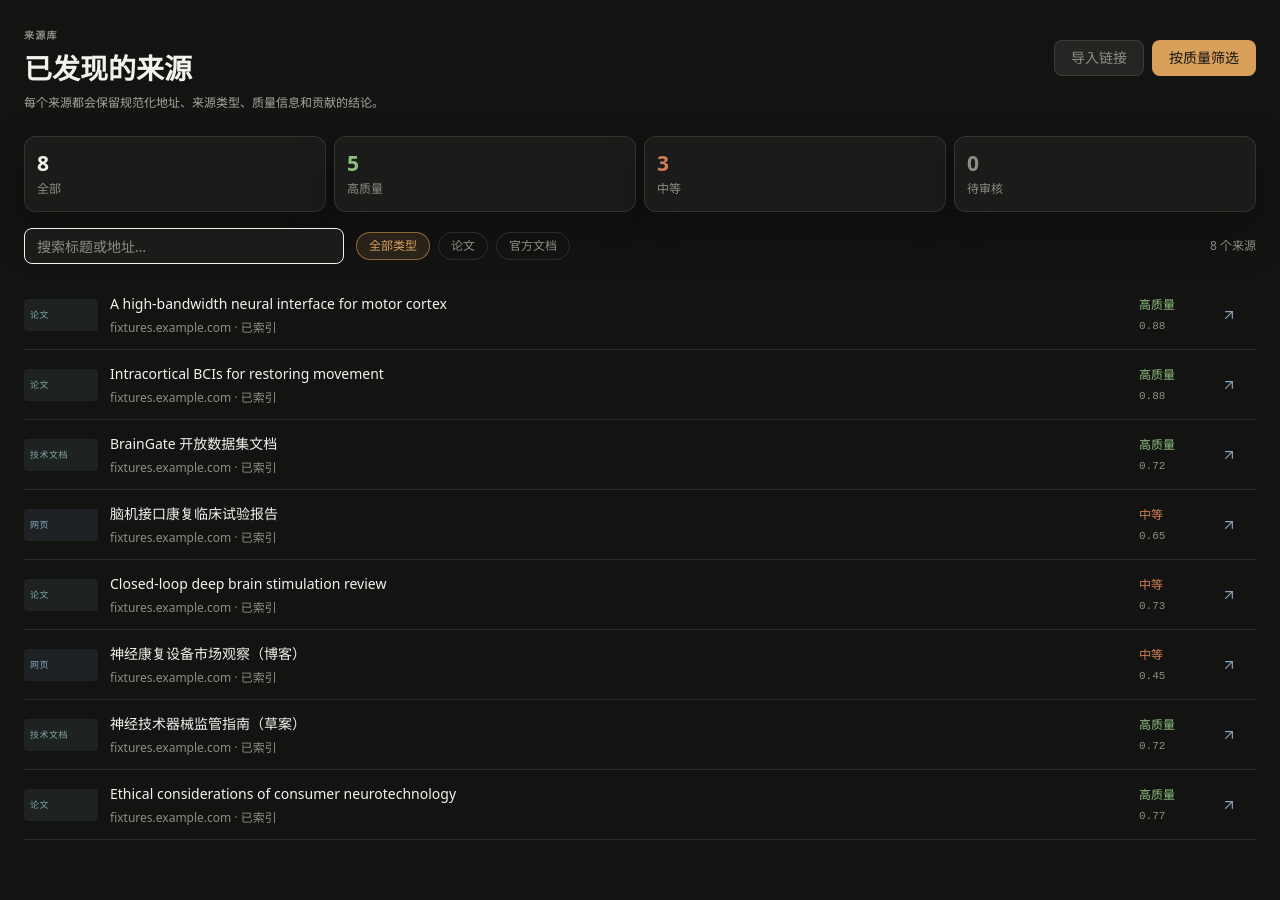
Test: SourcesPage prototype alignment › filters rows through type chips and the quality toggle
Click the button "论文". click: click(463, 246)
box: [438,232,488,260]
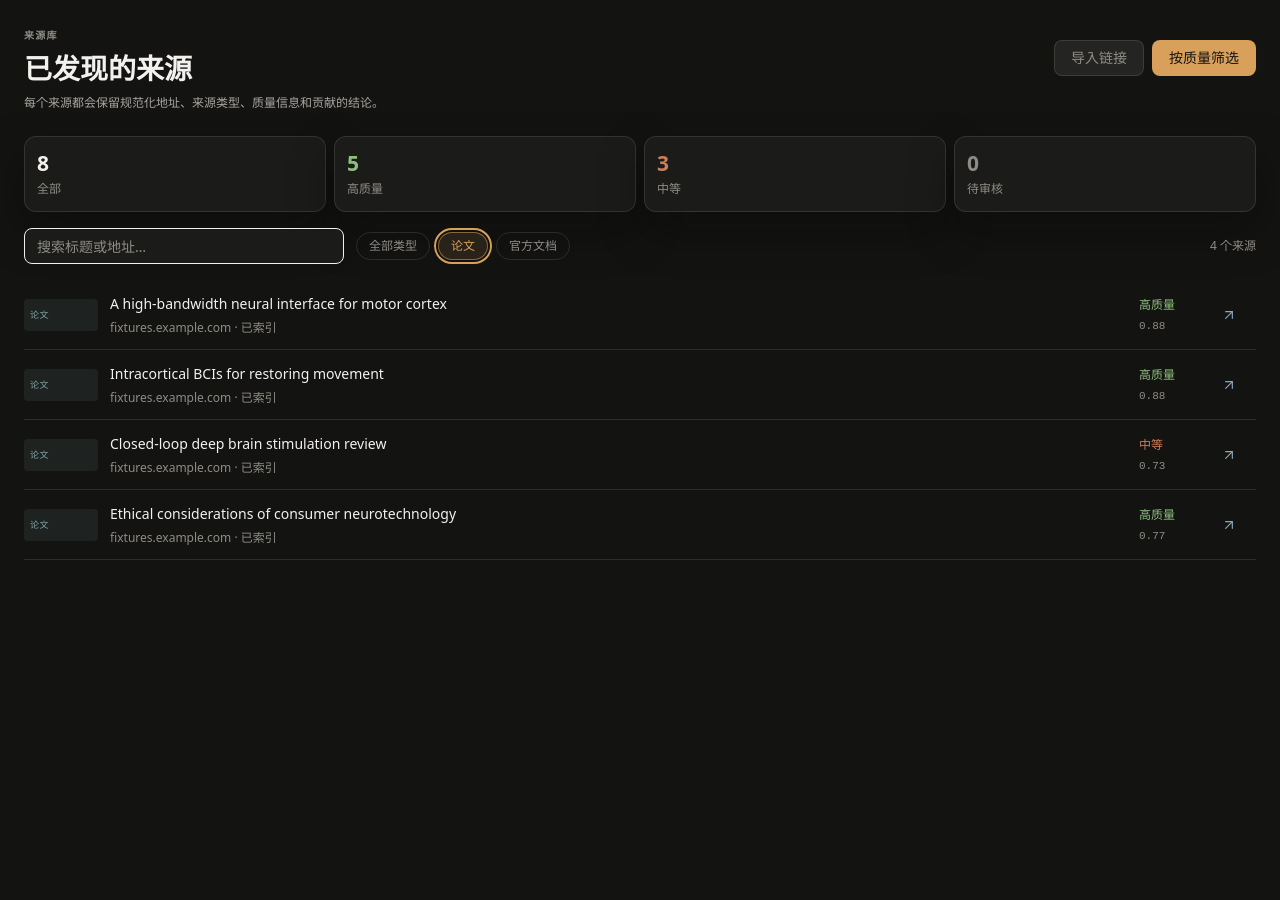
Expected: the number of list items with test id "source-row" is 4, [24,280,1256,350]; [24,350,1256,420]; [24,420,1256,490]; [24,490,1256,560]
Click the button "官方文档". click: click(533, 246)
box: [496,232,570,260]
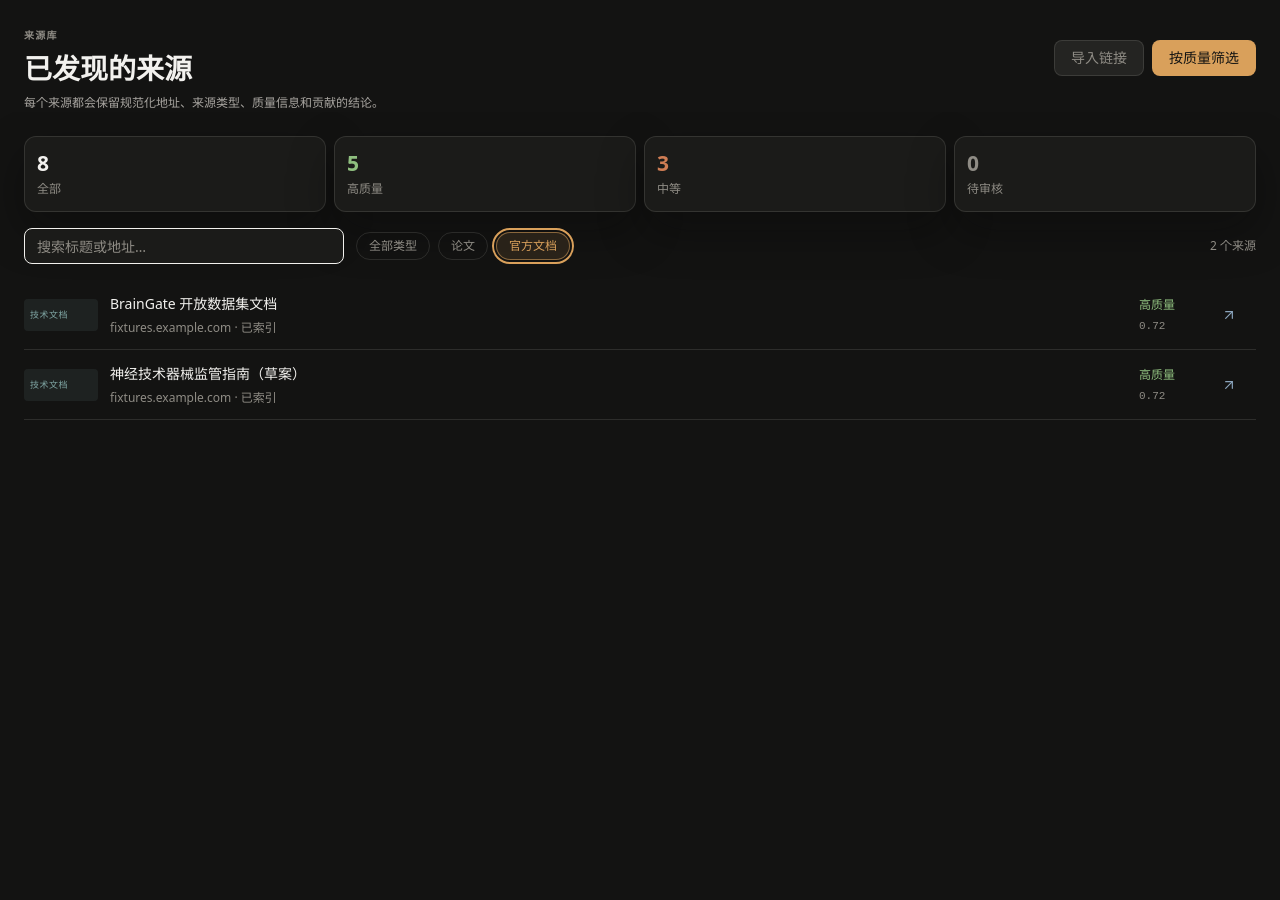
Expected: the number of list items with test id "source-row" is 2, [24,280,1256,350]; [24,350,1256,420]
Click the button "全部类型". click: click(393, 246)
box: [356,232,430,260]
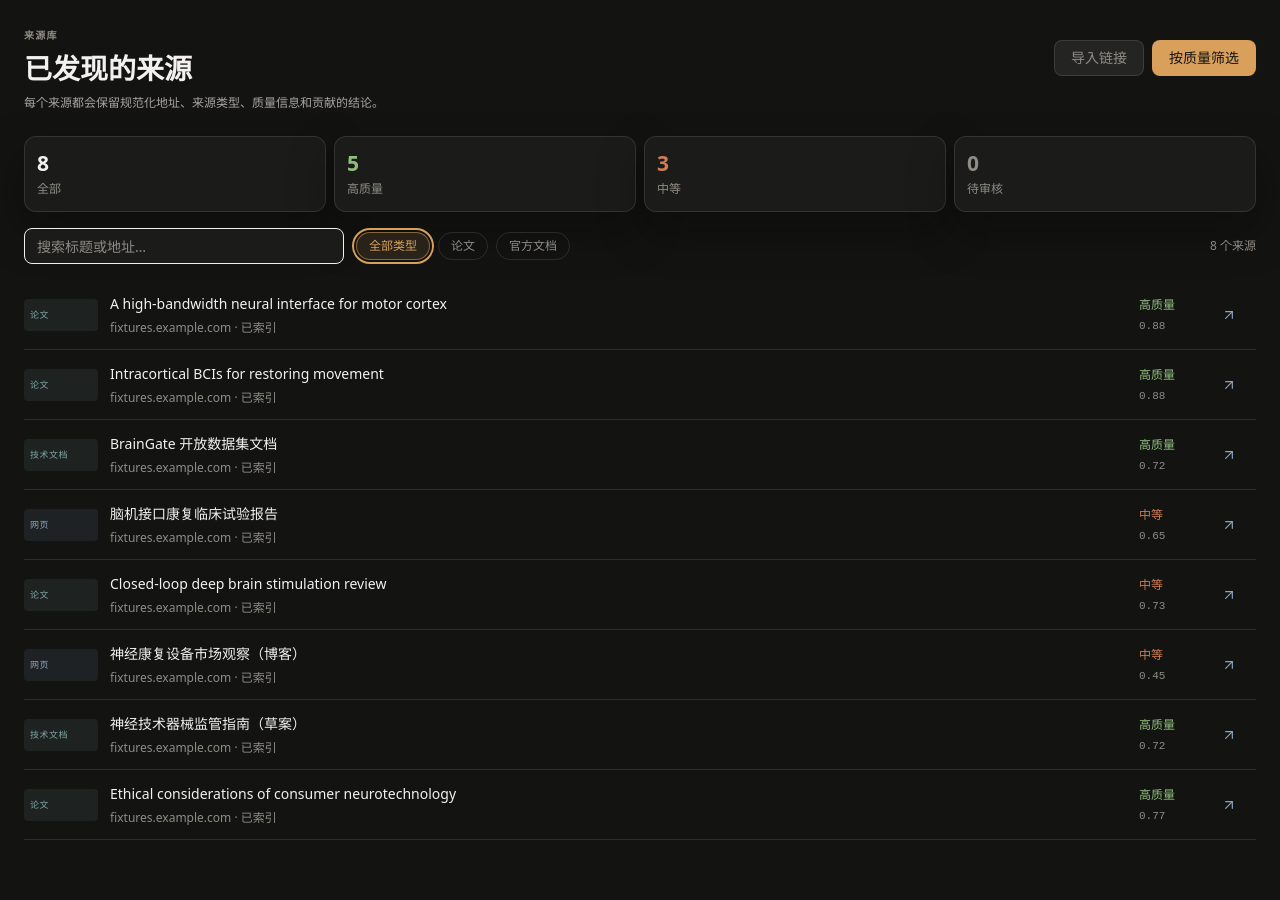
Expected: the number of list items with test id "source-row" is 8
Click the button "按质量筛选". click: click(1204, 58)
box: [1152,40,1256,76]
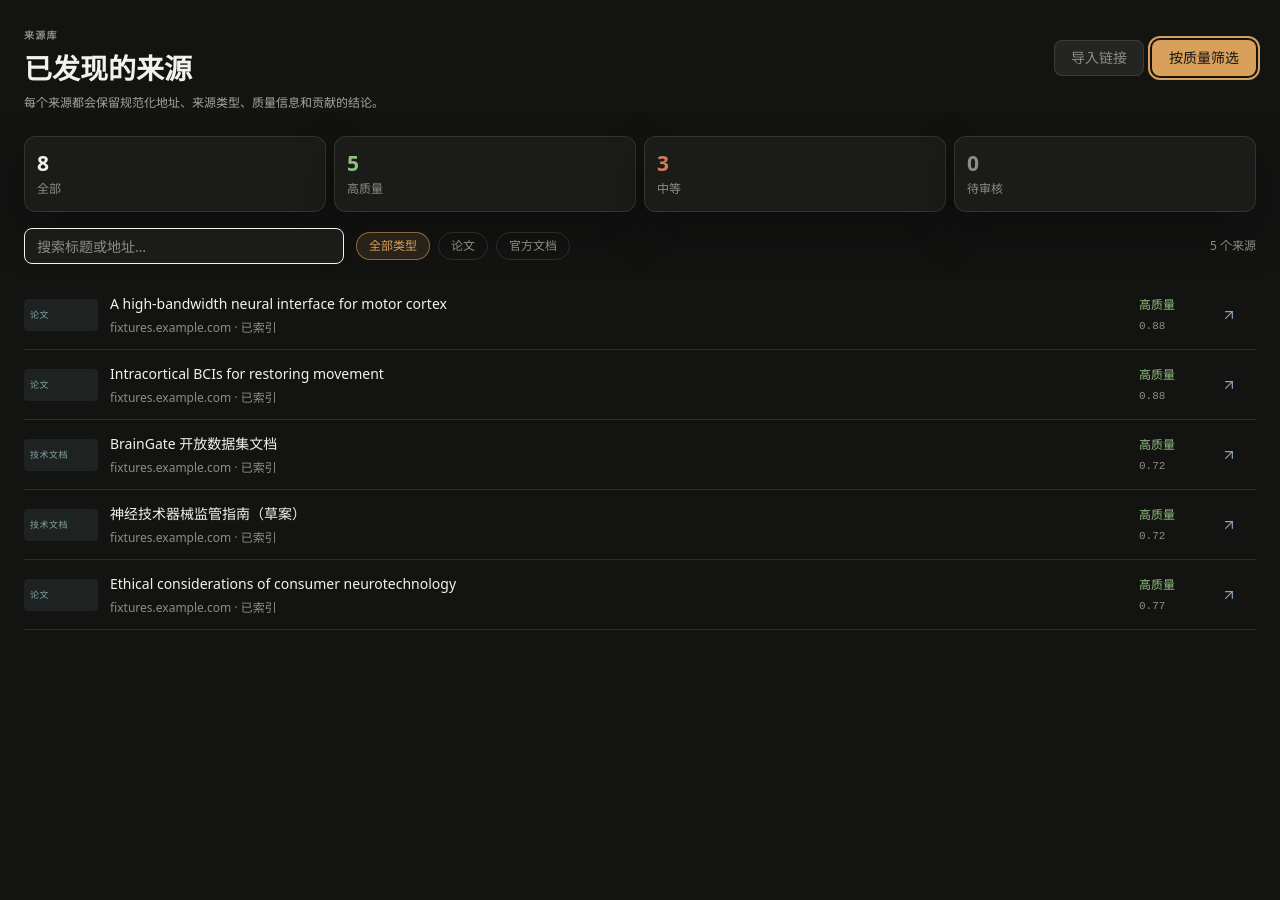
Expected: the number of list items with test id "source-row" is 5, [24,280,1256,350]; [24,350,1256,420]; [24,420,1256,490]; [24,490,1256,560]; [24,560,1256,630]
Click the button "按质量筛选". click: click(1204, 58)
box: [1152,40,1256,76]
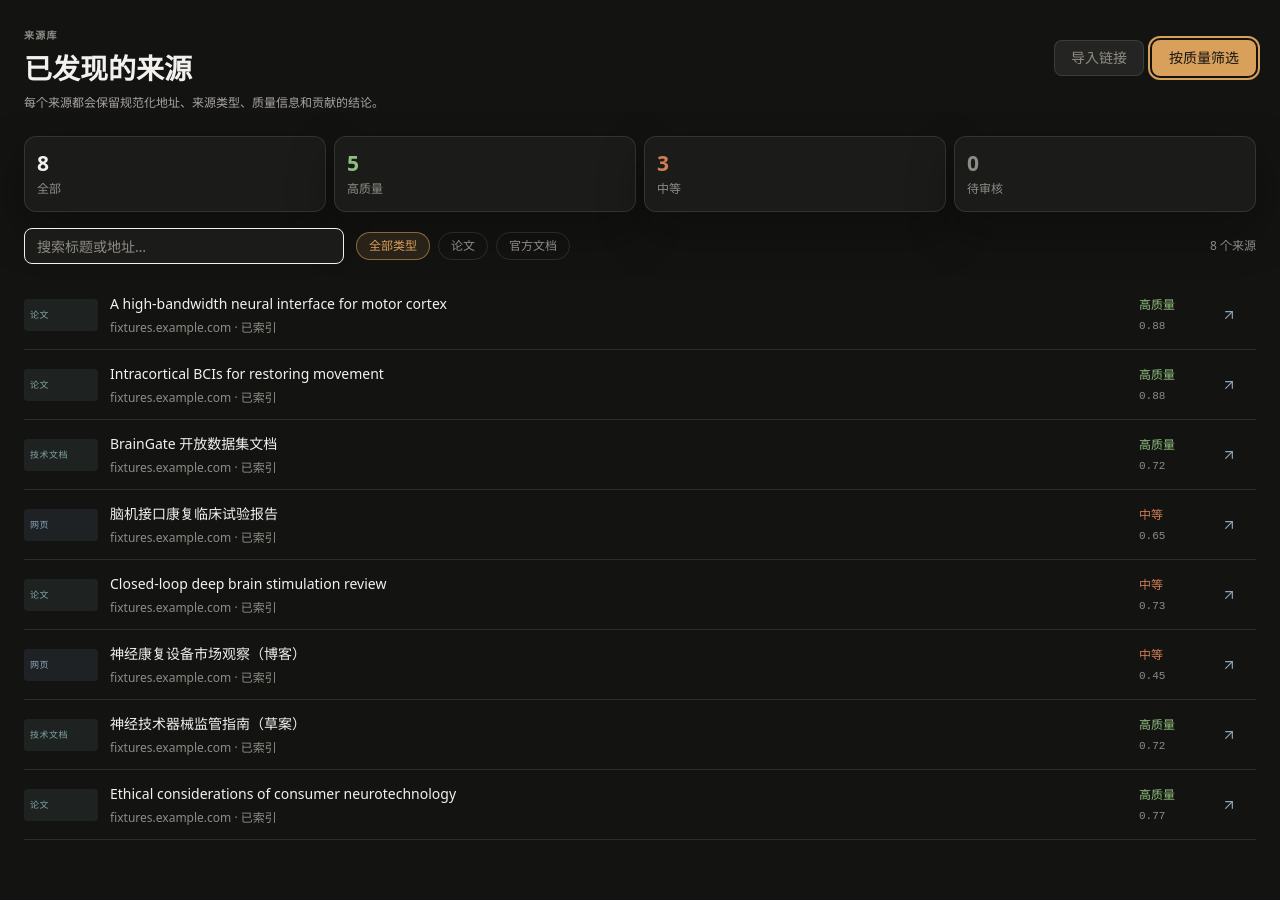
Expected: the number of list items with test id "source-row" is 8
